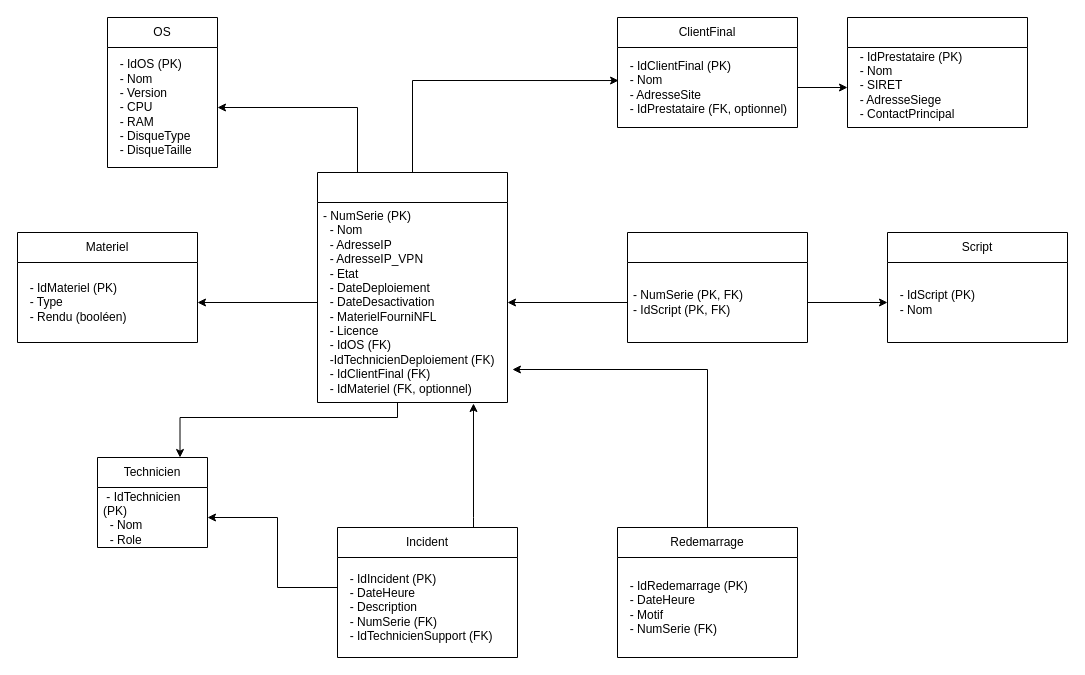
This 1085x675 diagram has some shape labels left out. The shapes that lost their labels are listed below. From the top down, each one's box as (x1, y1, x2, y2) in pixels, then its label:
(846, 16, 1028, 128): ClientPrestataire
(316, 172, 508, 402): Instance
(626, 232, 808, 342): Instance_Script
